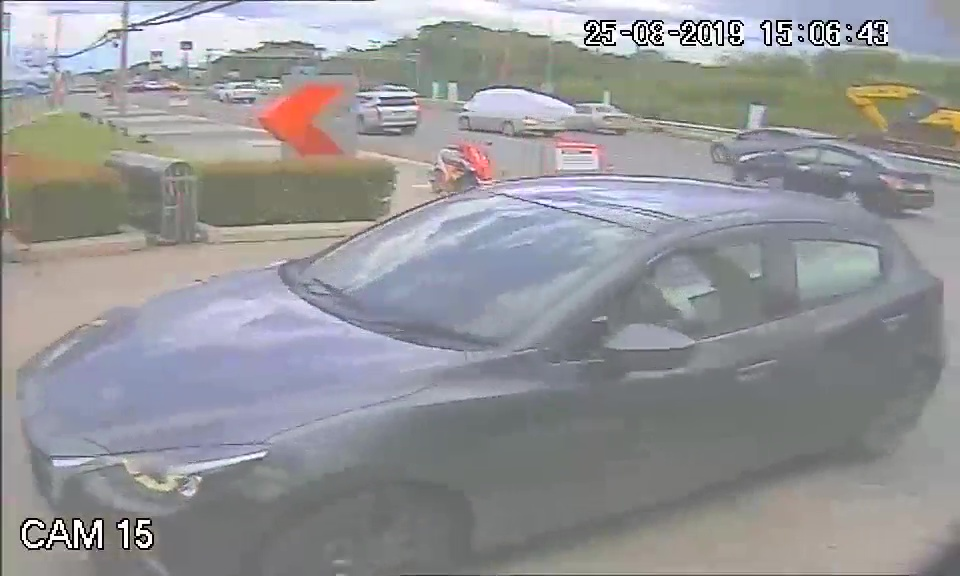sedan: (15, 172, 948, 546)
